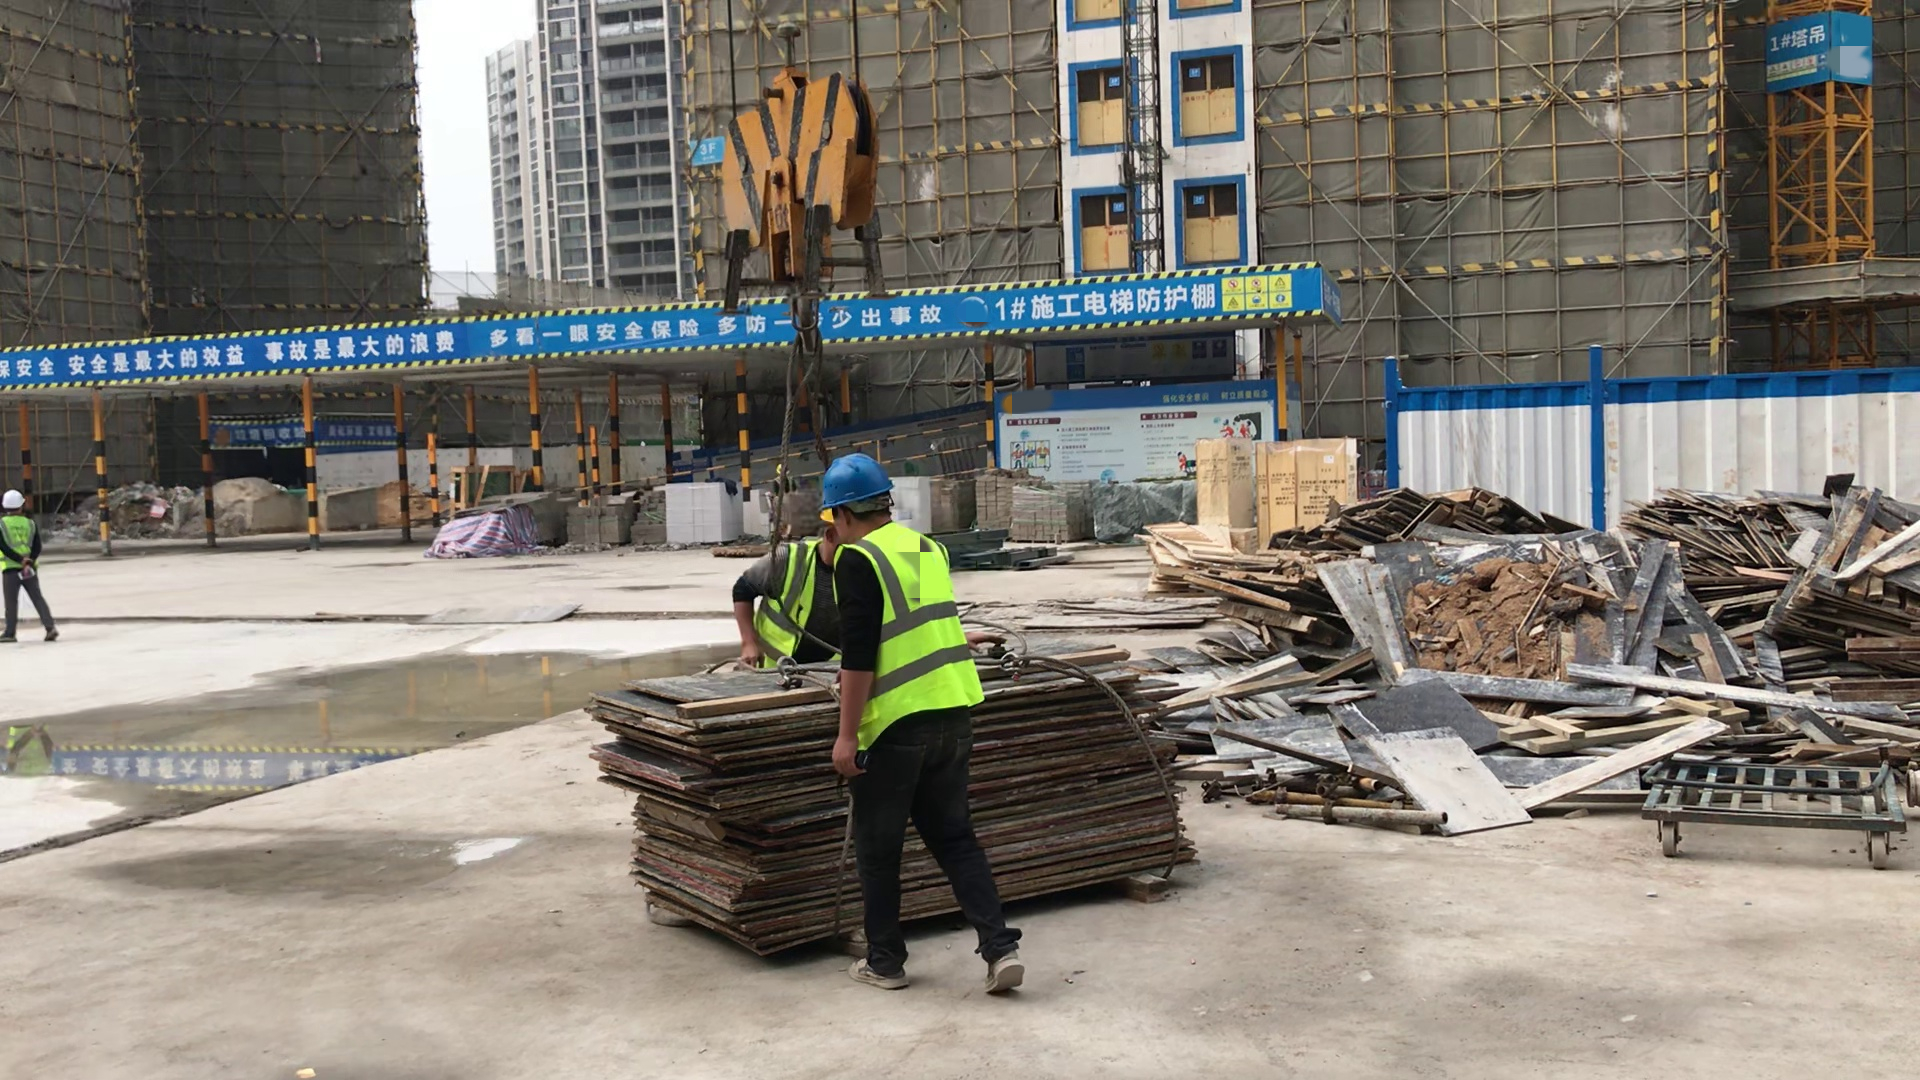board: (578, 662, 1232, 956)
brick: (662, 480, 769, 545), (893, 477, 932, 534)
helmet: (822, 456, 893, 509), (2, 492, 24, 510), (776, 465, 788, 474)
hook: (706, 66, 887, 351)
person: (818, 456, 1029, 1001), (733, 509, 840, 664), (3, 490, 56, 642), (771, 460, 795, 489)
slogan: (1, 330, 454, 381), (491, 299, 944, 350), (1216, 274, 1302, 309), (325, 419, 394, 441), (1766, 56, 1821, 81)
vest: (836, 523, 994, 746), (750, 540, 833, 662), (1, 513, 35, 573)
